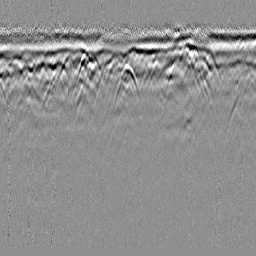cavity: (111, 61, 140, 111)
